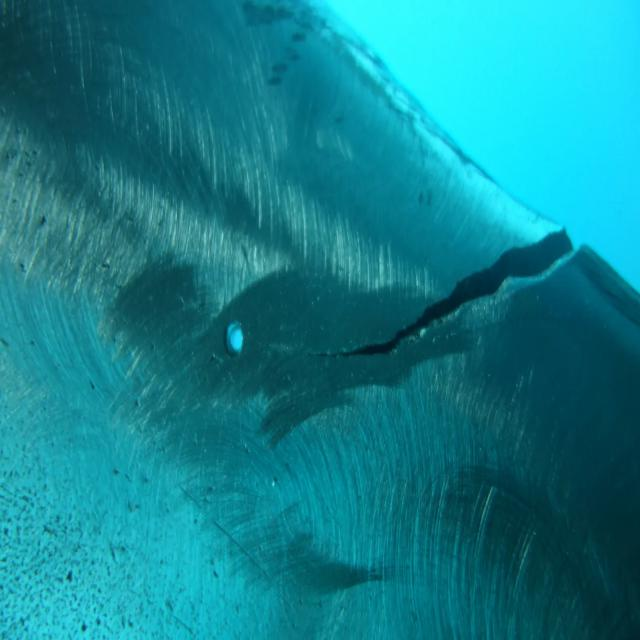crack: (281, 206, 591, 385)
